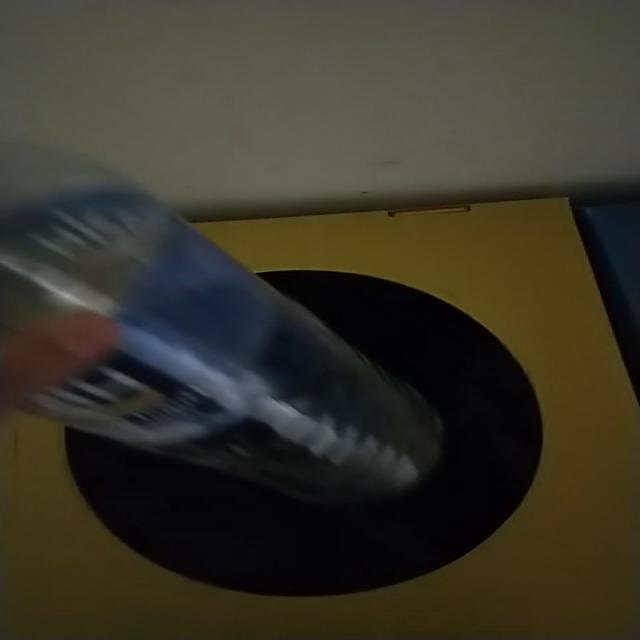plastic: (0, 180, 443, 504)
